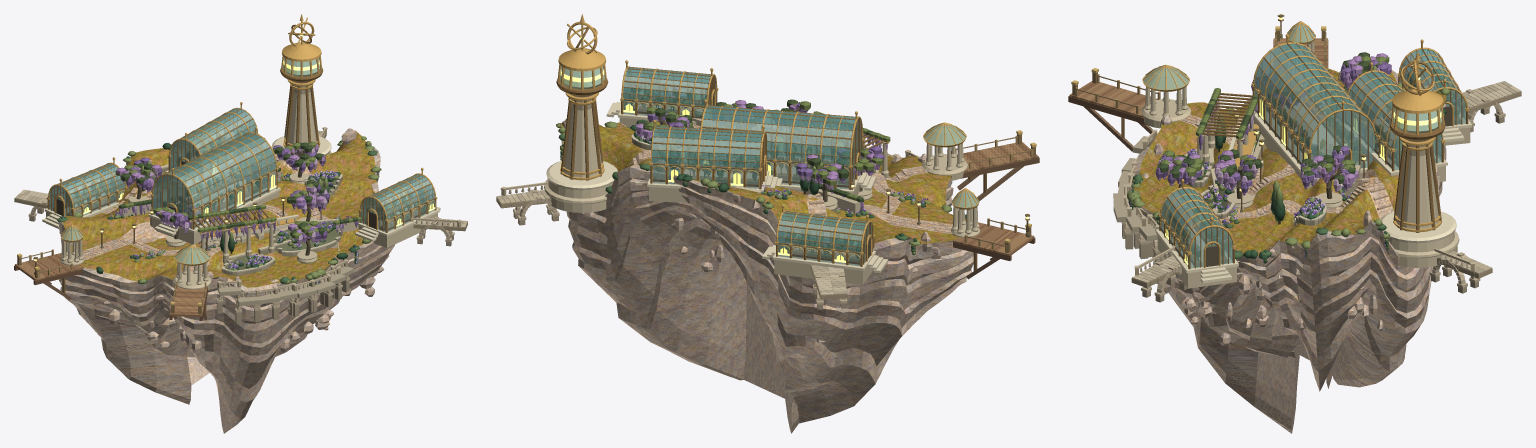
File: flight-town-glasshouse.glb
3 views of the same model, side by side, from view 1: azimuth 30°, elevation 25°; view 2: azimuth 150°, elevation 25°; view 3: azimuth 270°, elevation 25° (orthographic). The views are drawn at different scales.
Parts seen in each view (by area): view 1: Layered cliff and undermined strata, Continuous hillside terraces, Great propagation hall, Quays and working piers, Lower fernery, The keeper's brass lantern, Exchange orangery, Upper winterhouse, Wind-shaped greenery and crops, Wisteria walk and glass cupola, Stepped lanes and inlaid courts, Stonework, arcade and retaining walls (+11 smaller); view 2: Layered cliff and undermined strata, Great propagation hall, The keeper's brass lantern, Upper winterhouse, Quays and working piers, Continuous hillside terraces, Exchange orangery, Lower fernery, Wind-shaped greenery and crops, Stepped lanes and inlaid courts, Glaziers' landing pavilion, Century wisteria 13 (+6 smaller); view 3: Layered cliff and undermined strata, Great propagation hall, Quays and working piers, Continuous hillside terraces, The keeper's brass lantern, Lower fernery, Upper winterhouse, Wind-shaped greenery and crops, Exchange orangery, Wisteria walk and glass cupola, Outcrop spurs and stratified talus, Stepped lanes and inlaid courts (+9 smaller).
Boxes of the visible parts, x1,y1,x2,y2 form: Layered cliff and undermined strata: [58, 148, 394, 433]; Continuous hillside terraces: [63, 130, 377, 287]; Great propagation hall: [148, 127, 280, 244]; Quays and working piers: [14, 127, 467, 323]; Lower fernery: [355, 167, 440, 247]; The keeper's brass lantern: [271, 14, 331, 155]; Exchange orangery: [42, 157, 127, 228]; Upper winterhouse: [165, 102, 259, 192]; Wind-shaped greenery and crops: [57, 131, 381, 286]; Wisteria walk and glass cupola: [188, 205, 276, 259]; Stepped lanes and inlaid courts: [82, 154, 330, 272]; Stonework, arcade and retaining walls: [161, 156, 343, 284]; Layered cliff and undermined strata: [559, 123, 973, 433]; Great propagation hall: [699, 99, 876, 195]; The keeper's brass lantern: [544, 14, 617, 212]; Upper winterhouse: [635, 120, 782, 202]; Quays and working piers: [496, 135, 1039, 309]; Continuous hillside terraces: [560, 121, 966, 246]; Exchange orangery: [762, 204, 888, 284]; Lower fernery: [606, 60, 718, 127]; Wind-shaped greenery and crops: [556, 119, 966, 255]; Stepped lanes and inlaid courts: [627, 124, 952, 233]; Glaziers' landing pavilion: [921, 122, 967, 180]; Century wisteria 13: [796, 154, 848, 211]; Layered cliff and undermined strata: [1132, 70, 1446, 433]; Great propagation hall: [1251, 34, 1377, 188]; Quays and working piers: [1068, 32, 1521, 302]; Continuous hillside terraces: [1134, 68, 1446, 255]; The keeper's brass lantern: [1380, 51, 1459, 267]; Lower fernery: [1155, 179, 1238, 288]; Upper winterhouse: [1344, 62, 1447, 182]; Wind-shaped greenery and crops: [1127, 65, 1450, 263]; Exchange orangery: [1397, 39, 1471, 145]; Wisteria walk and glass cupola: [1195, 88, 1257, 175]; Outcrop spurs and stratified talus: [1142, 71, 1445, 345]; Stepped lanes and inlaid courts: [1180, 114, 1393, 224].
Size of the model in its own units: 44.15 by 38.85 by 34.5.
23 materials, 3 textured.
